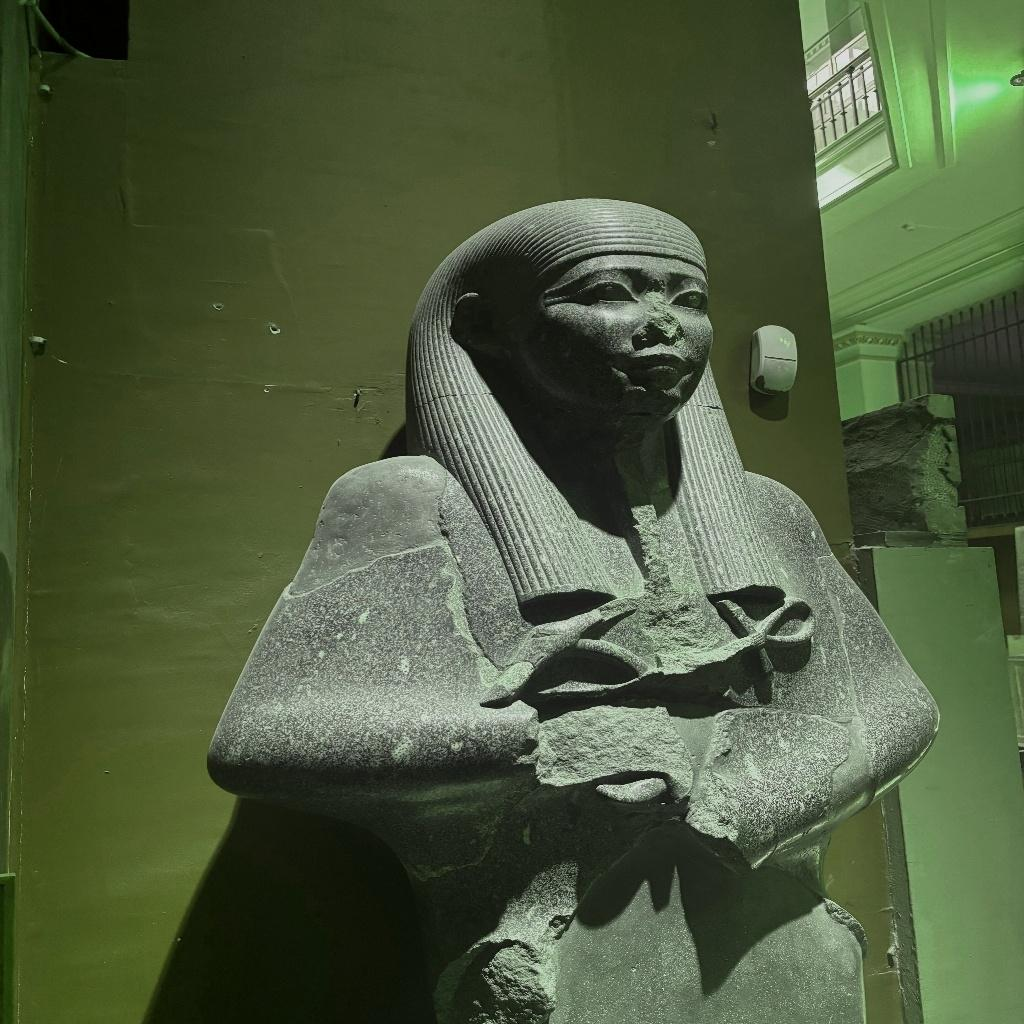Granite Statue of Osiris: (203, 196, 948, 954)
